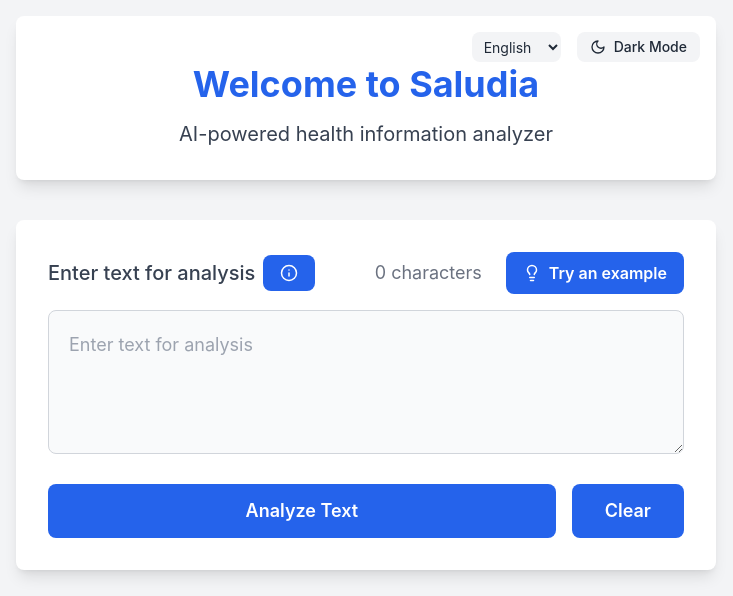
Test: App › switches language and updates content
Select "Español" in the dropdown at {"x": 516, "y": 47}, box [472,32,561,62]
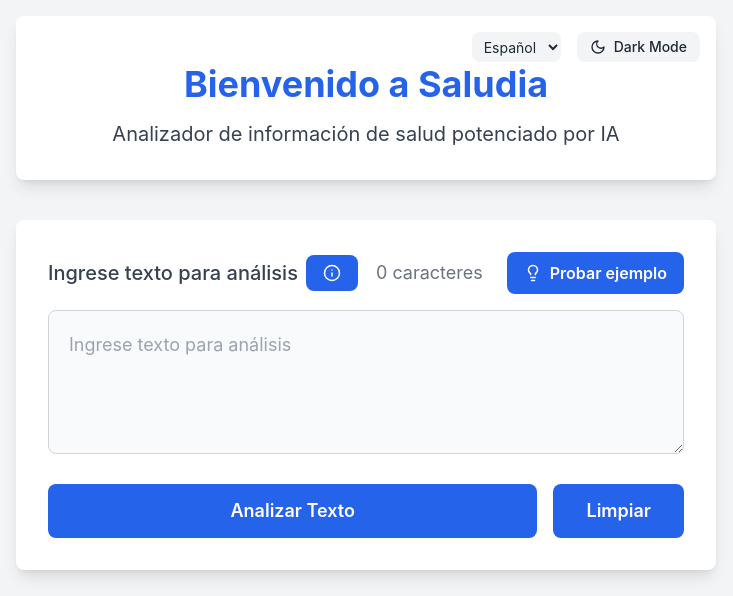
Expected: the heading "Bienvenido a Saludia" is shown, [184,62,548,106]
Expected: the button "Analizar Texto" is shown, [48,484,538,538]
